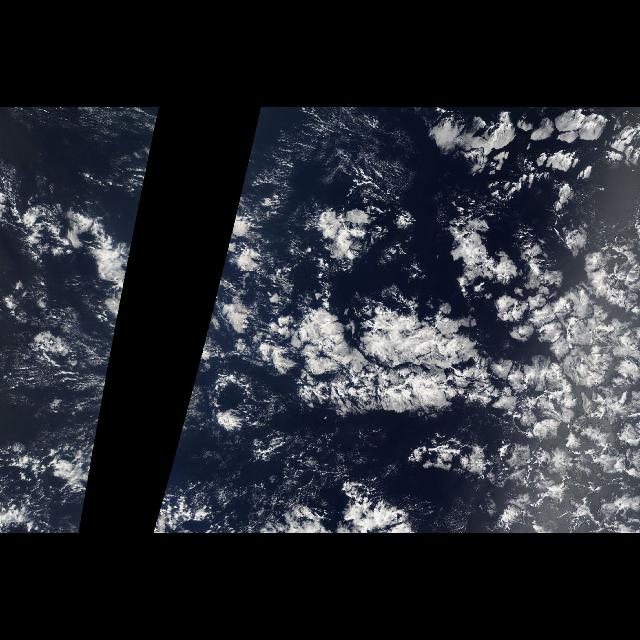Sugar: (253, 108, 422, 196)
